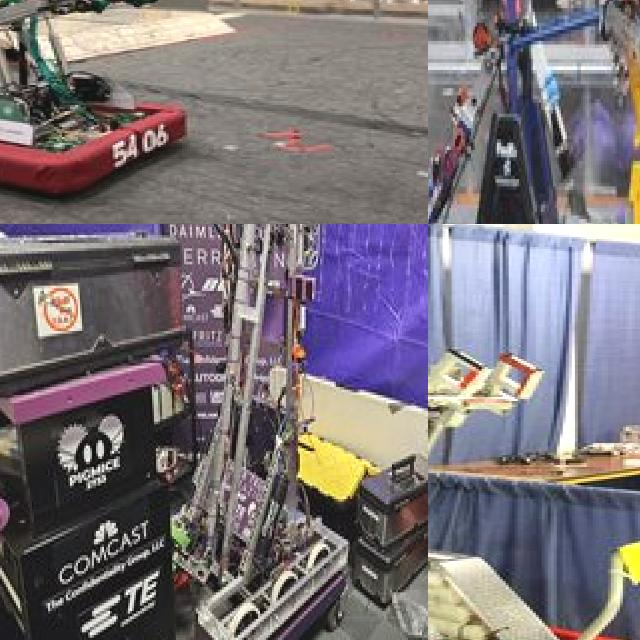FRC-Robots: (0, 0, 428, 198), (168, 224, 352, 640), (428, 338, 640, 640), (428, 0, 640, 224), (449, 0, 640, 224)
